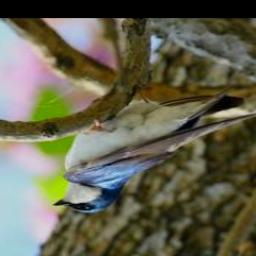Swallow: (52, 81, 256, 215)
